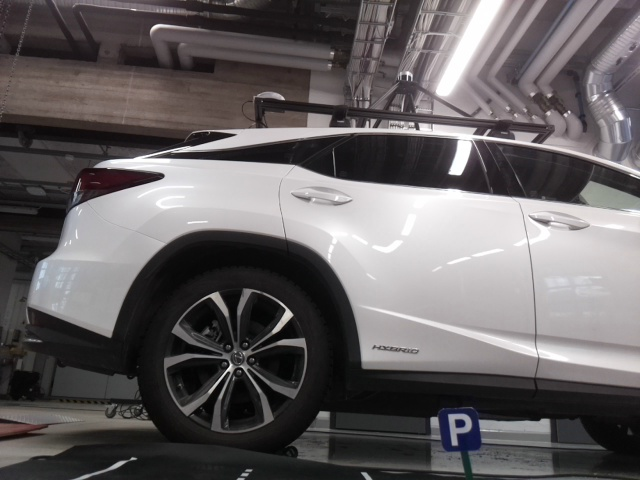Parking: (436, 408, 480, 450)
